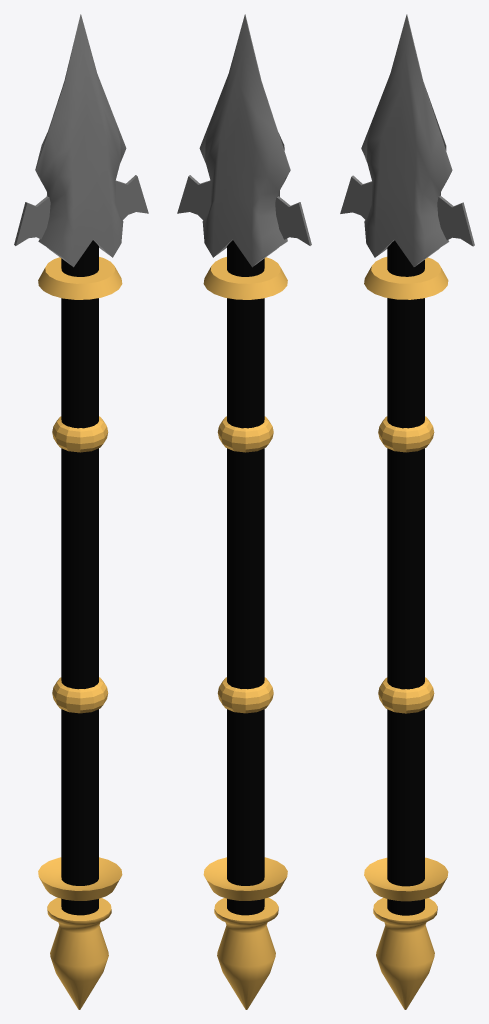
The model's file is Spear.fbx.
3 renders of one model, left to right at view 1: azimuth 30°, elevation 25°; view 2: azimuth 150°, elevation 25°; view 3: azimuth 330°, elevation 25°, orthographic.
Visible parts, largest first — view 1: Spear; view 2: Spear; view 3: Spear.
Boxes of the visible parts, x1,y1,x2,y2 form: Spear: (14,14,148,1009); Spear: (177,14,311,1009); Spear: (340,14,474,1009).
Bounding box in the file's own units: 1.37 × 0.7531 × 9.76.
